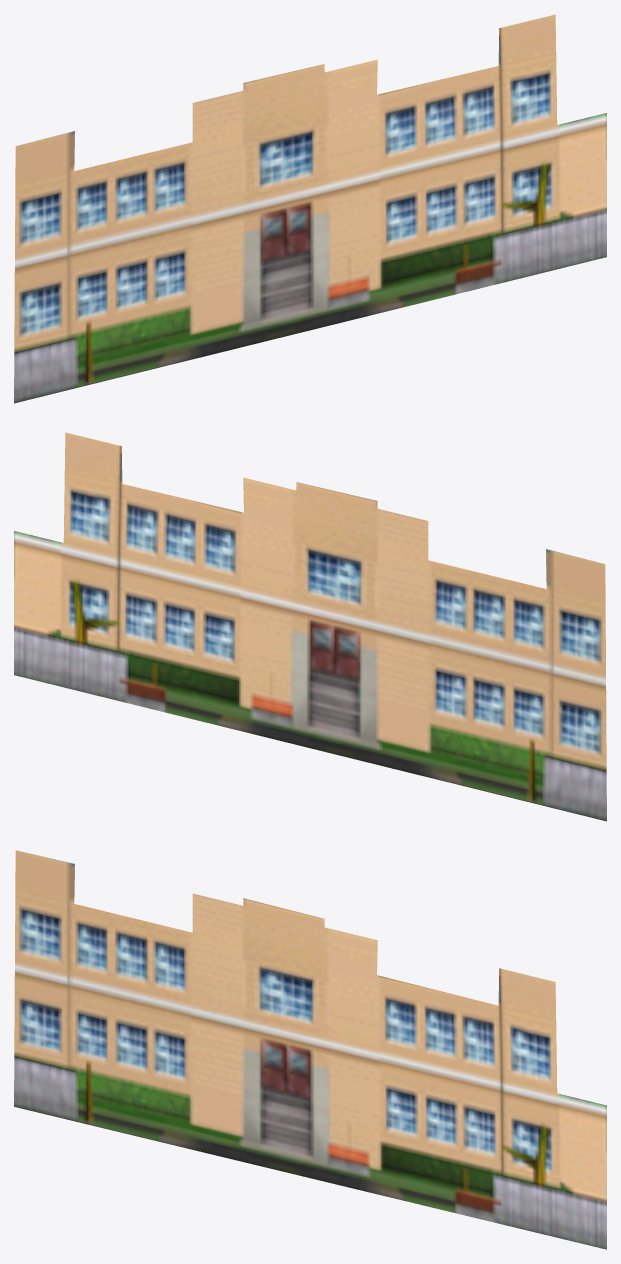
File: SCHOOL.glb
The picture shows the model from 3 angles, top to bottom: view 1: azimuth 30°, elevation 25°; view 2: azimuth 150°, elevation 25°; view 3: azimuth 330°, elevation 25°; orthographic projection.
Parts seen in each view (by area): view 1: SCHOOL; view 2: SCHOOL; view 3: SCHOOL.
Part boxes in pixels (x1,y1,x2,y2): SCHOOL: [14, 14, 606, 403]; SCHOOL: [14, 432, 606, 821]; SCHOOL: [14, 850, 606, 1249].
Size of the model in its own units: 5810 by 2477 by 0.
Materials: 1 (1 with a texture image).
